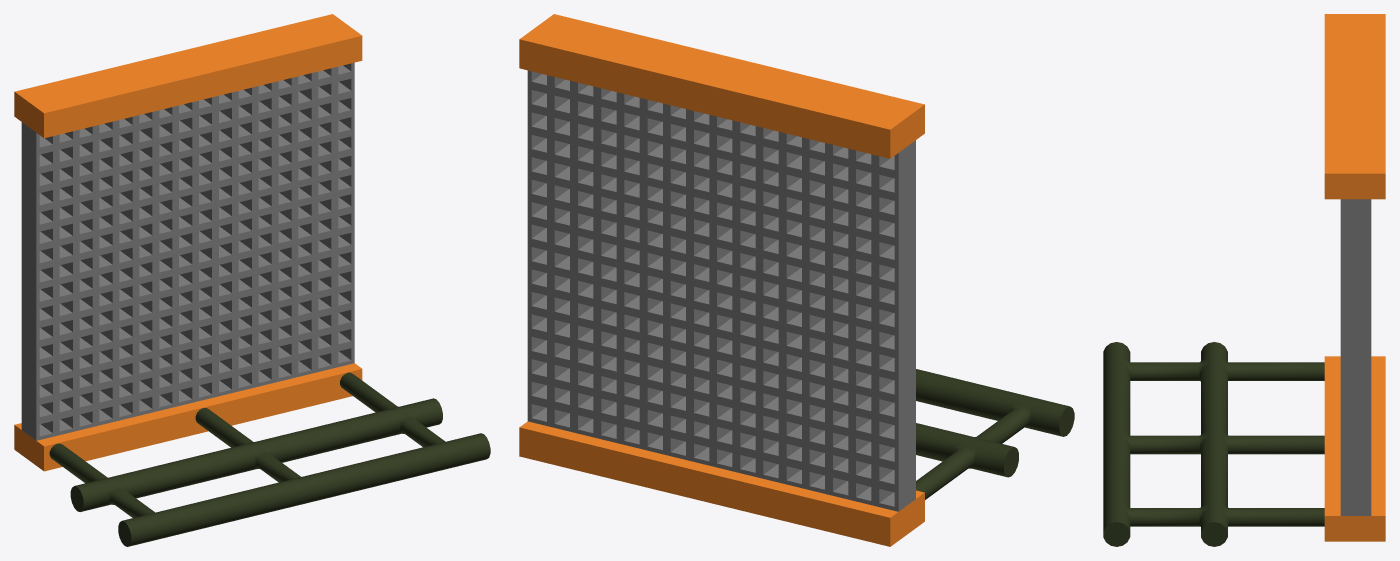
File: P_Mural_01.fbx
3 views of the same model, side by side, from view 1: azimuth 30°, elevation 25°; view 2: azimuth 150°, elevation 25°; view 3: azimuth 270°, elevation 25° (orthographic). The views are drawn at different scales.
Parts seen in each view (by area): view 1: P_Mural; view 2: P_Mural; view 3: P_Mural.
Part boxes in pixels (box(x1,y1,x2,y2)): P_Mural: box(14, 14, 490, 546); P_Mural: box(519, 14, 1074, 546); P_Mural: box(1103, 14, 1385, 546).
Size of the model in its own units: 210 by 200 by 139.
